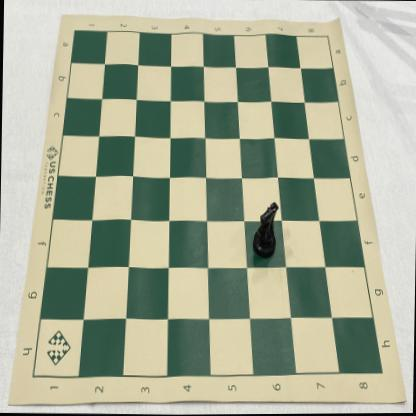black-knight: (251, 201, 278, 260)
